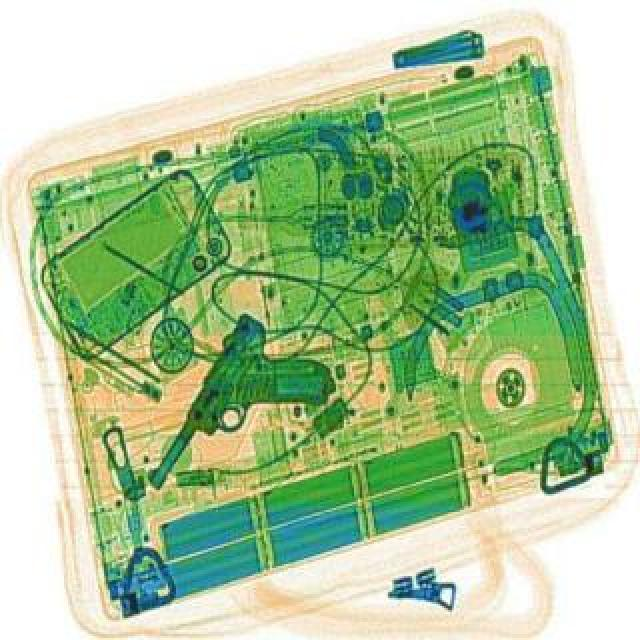gun: (138, 310, 346, 534)
